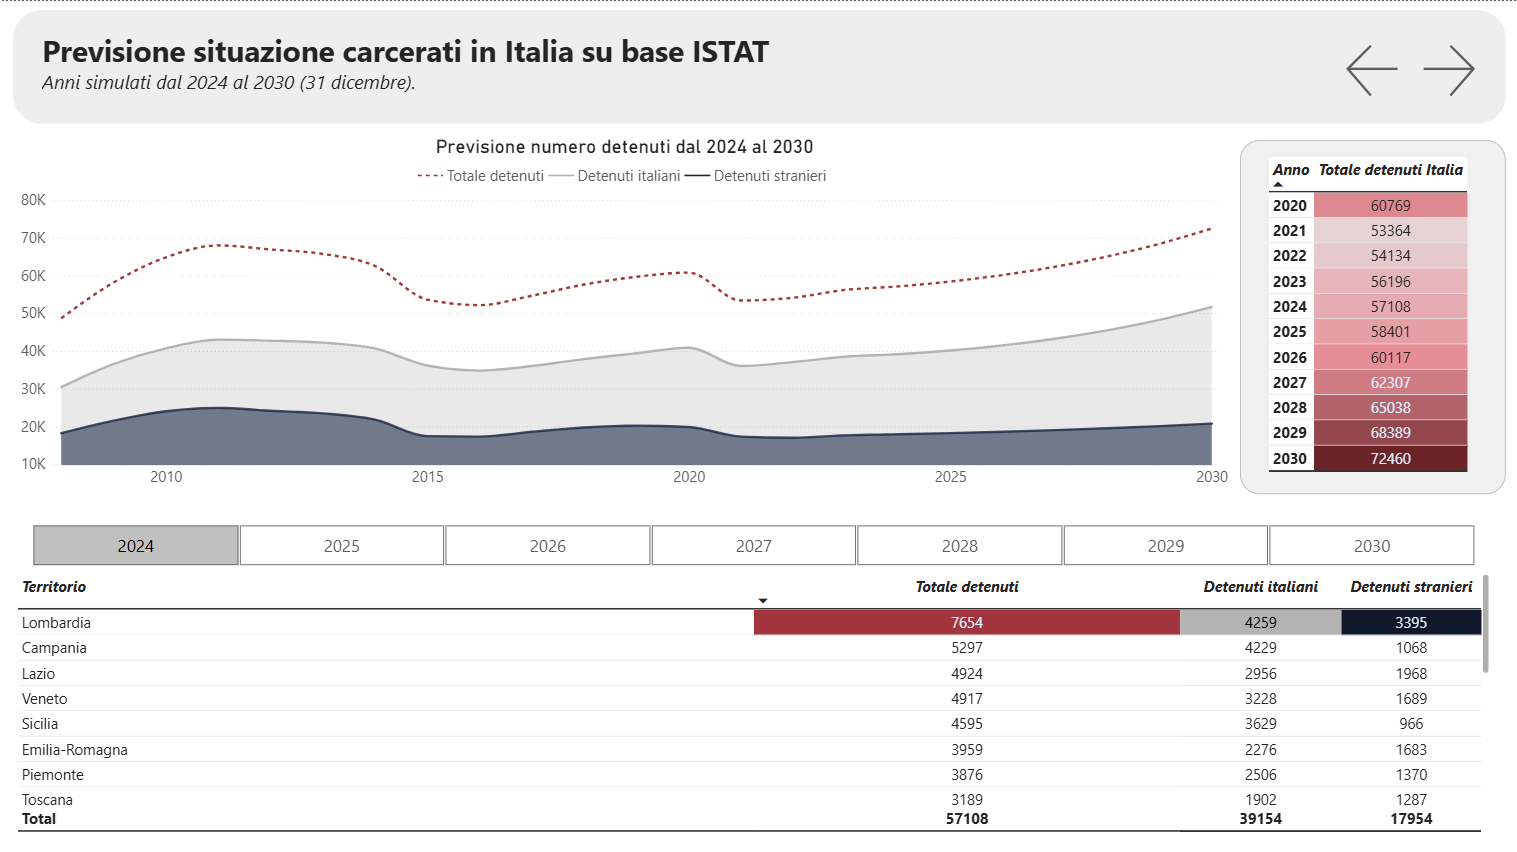

The dashboard page shown, as its layout file describes it:
{"tool":"powerbi","page":{"name":"Previsione","canvas":[1920,1080],"ordinal":6},"visuals":[{"type":"shape","box":[1568,176,336,448],"z":0},{"type":"shape","box":[16,12,1888,144],"z":1000},{"type":"textbox","box":[48,32,1152,96],"z":2000},{"type":"areaChart","title":"Previsione numero detenuti dal 2024 al 2030","fields":{"Category":["df_con_predizioni.anno"],"Y":["Sum(df_con_predizioni.detenuti)","Sum(df_con_predizioni.detenuti_italiani)","Sum(df_con_predizioni.detenuti_stranieri)"]},"box":[16,160,1552,464],"z":3000},{"type":"tableEx","fields":{"Values":["df_con_predizioni.territorio","Sum(df_con_predizioni.detenuti)","Sum(df_con_predizioni.detenuti_italiani)","Sum(df_con_predizioni.detenuti_stranieri)"]},"box":[16,720,1872,336],"z":4000},{"type":"pivotTable","fields":{"Rows":["df_con_predizioni.anno"],"Values":["Sum(df_con_predizioni.detenuti)"]},"box":[1600,192,288,416],"z":5000},{"type":"slicer","fields":{"Values":["df_con_predizioni.anno"]},"box":[16,656,1872,64],"z":6000},{"type":"actionButton","box":[1696,48,96,80],"z":7000},{"type":"actionButton","box":[1792,48,96,80],"z":8000}]}

Visuals, with their boxes in screenshot pixels (x1, y1, x2, y2), scaled from the page's 1920x1080 canvas onto the 1517x852 screenshot:
shape: (1239, 139, 1504, 492)
shape: (13, 9, 1504, 123)
textbox: (38, 25, 948, 101)
"Previsione numero detenuti dal 2024 al 2030" areaChart: (13, 126, 1239, 492)
tableEx - df_con_predizioni.territorio x Sum(df_con_predizioni.detenuti): (13, 568, 1492, 833)
pivotTable - df_con_predizioni.anno x Sum(df_con_predizioni.detenuti): (1264, 151, 1492, 480)
slicer - df_con_predizioni.anno: (13, 518, 1492, 568)
actionButton: (1340, 38, 1416, 101)
actionButton: (1416, 38, 1492, 101)
